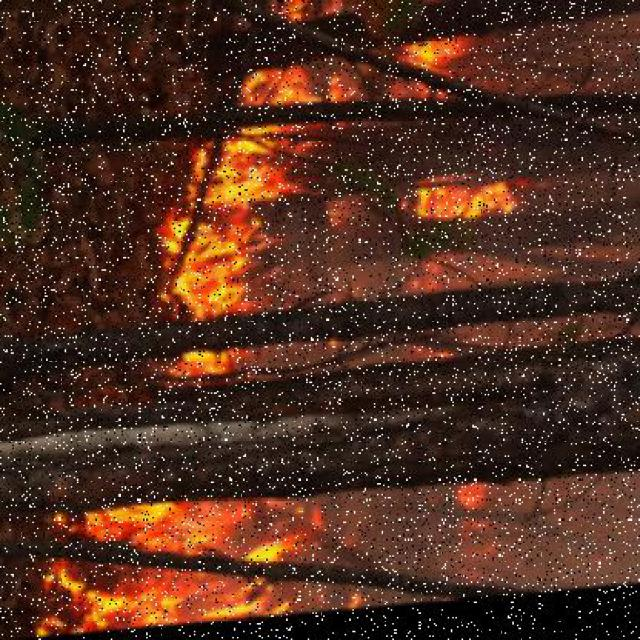fire: (66, 509, 294, 635), (190, 123, 307, 311), (408, 176, 523, 245), (447, 490, 507, 529), (411, 48, 479, 77)
